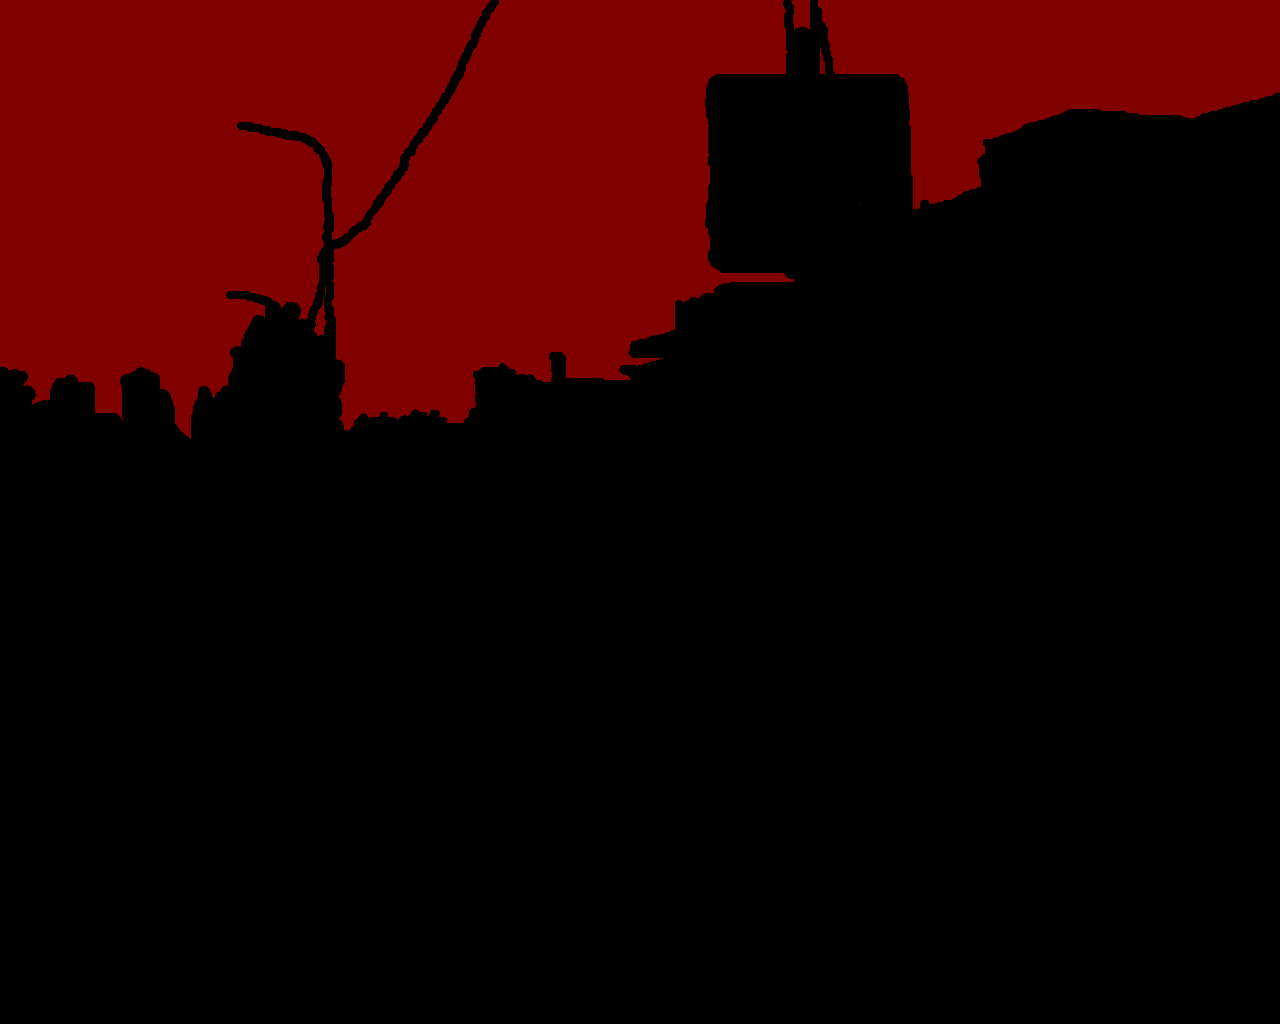Sky: (1, 1, 1279, 439)
